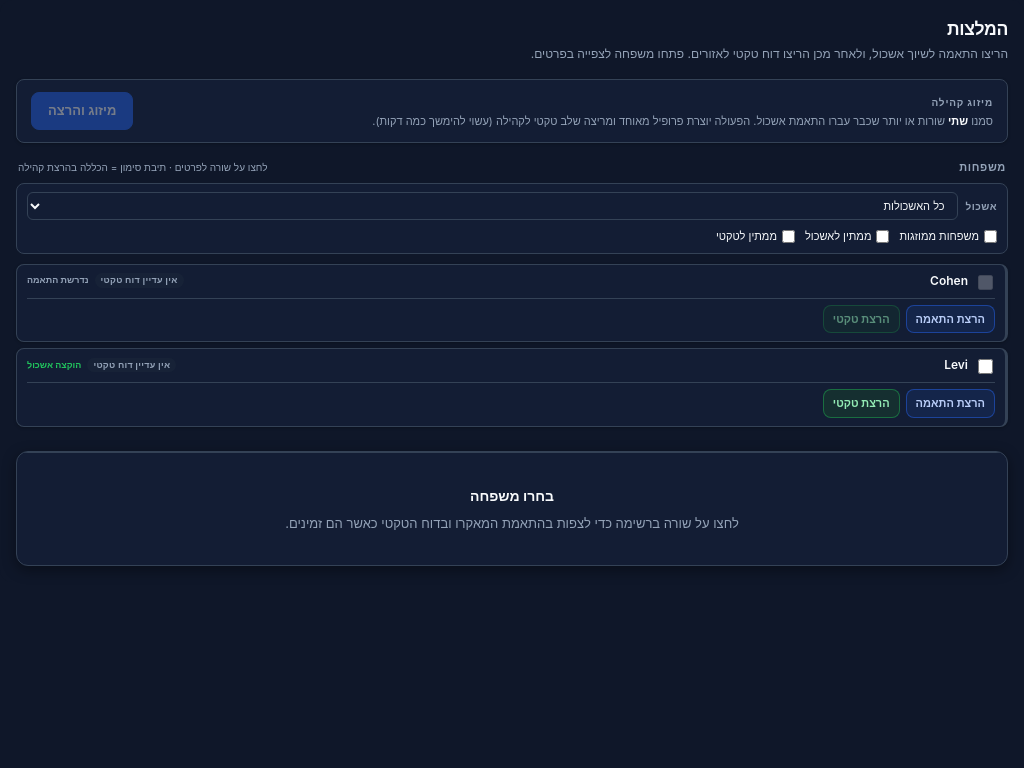
Test case: RecommendationsPanel integration › renders overview rows and supports cluster filtering
This screenshot has width=1024, height=768.
Expected: the text "Cohen" is shown, [930, 273, 968, 288]
Expected: the text "Levi" is shown, [944, 357, 968, 372]
Select "אשכול #1" in the dropdown labelled "אשכול". click: (492, 206)
box: [27, 192, 958, 220]
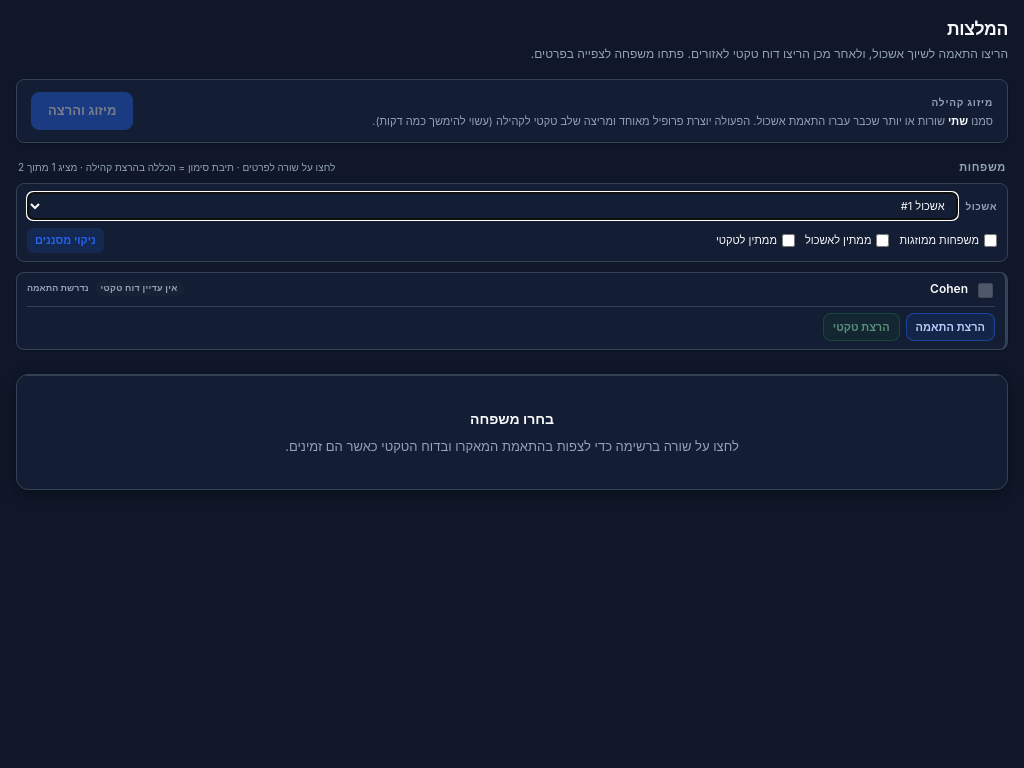
Expected: the text "Cohen" is shown, [930, 281, 968, 296]
Now the text "Levi" is gone
